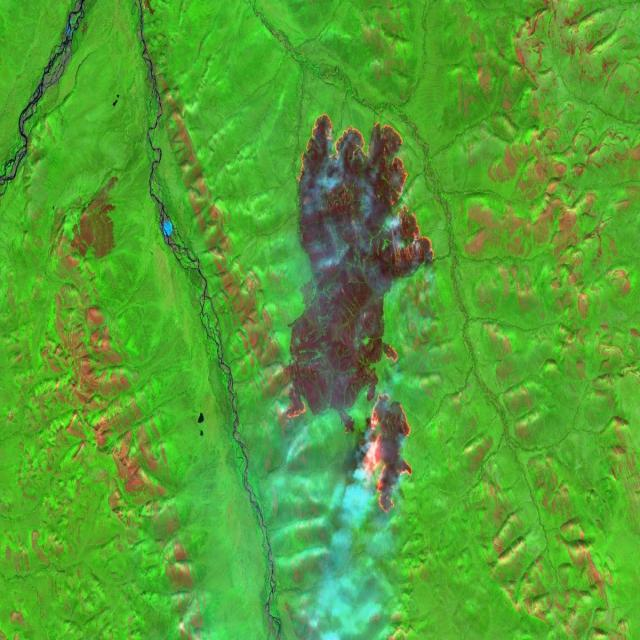fire: (280, 106, 438, 520)
